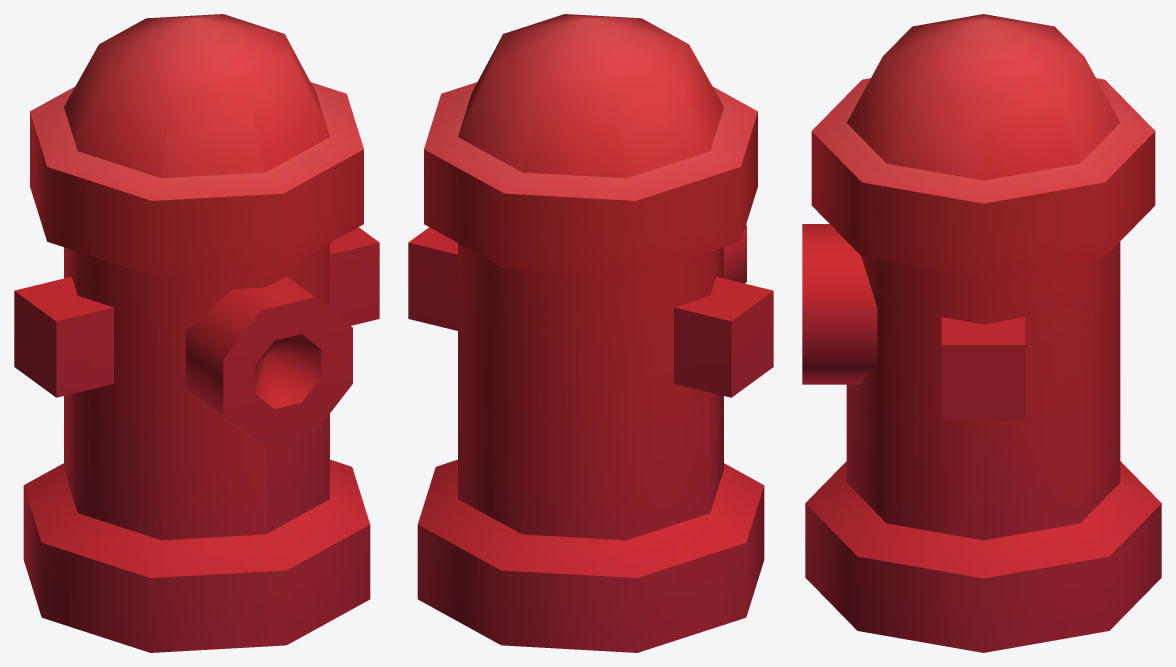
Rendered from brandpost.glb.
The picture shows the model from 3 angles, left to right: view 1: azimuth 30°, elevation 25°; view 2: azimuth 150°, elevation 25°; view 3: azimuth 270°, elevation 25°; orthographic projection.
Parts seen in each view (by area): view 1: firehydrant; view 2: firehydrant; view 3: firehydrant.
Boxes of the visible parts, x1,y1,x2,y2 form: firehydrant: [14, 14, 379, 652]; firehydrant: [408, 14, 773, 652]; firehydrant: [802, 14, 1161, 652].
Bounding box in the file's own units: 0.1355 × 0.2246 × 0.1313.
1 material, 1 textured.
